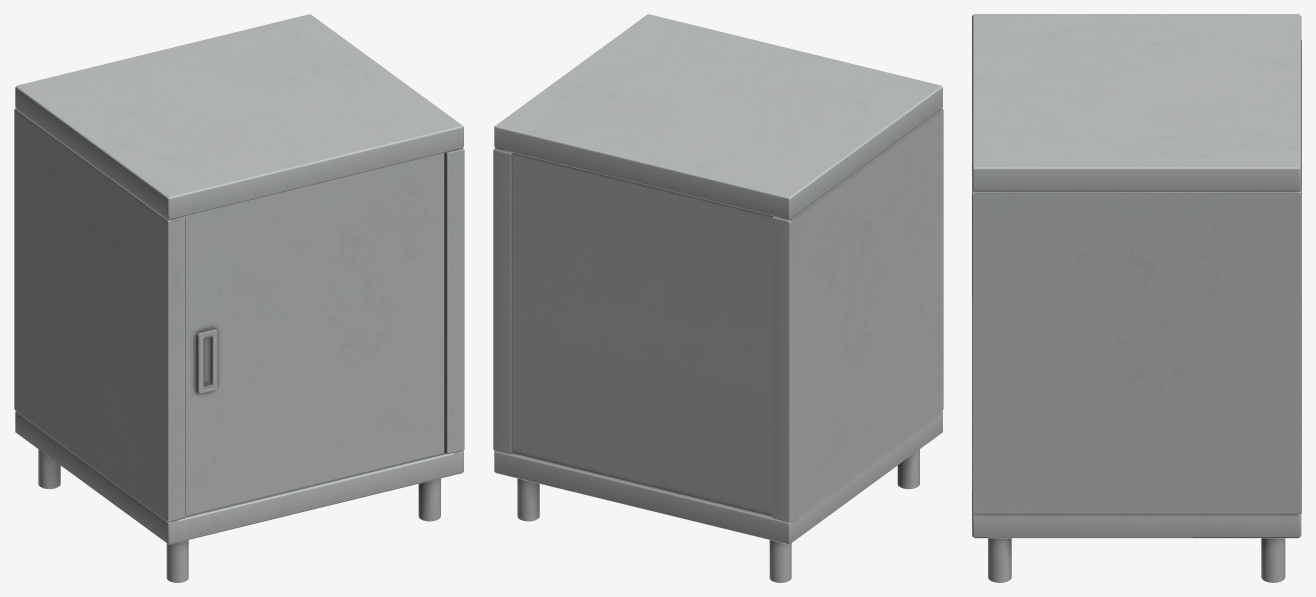
File: CabinetSteel_02.FBX
3 views of the same model, side by side, from view 1: azimuth 30°, elevation 25°; view 2: azimuth 150°, elevation 25°; view 3: azimuth 270°, elevation 25° (orthographic). The views are drawn at different scales.
Visible parts, largest first — view 1: CabinetSteel_02; view 2: CabinetSteel_02; view 3: CabinetSteel_02.
Part boxes in pixels (x1,y1,x2,y2): CabinetSteel_02: (14, 14, 464, 582); CabinetSteel_02: (493, 14, 943, 582); CabinetSteel_02: (972, 14, 1301, 582).
Bounding box in the file's own units: 66.79 × 85 × 60.13.
Materials: 1 (1 with a texture image).
